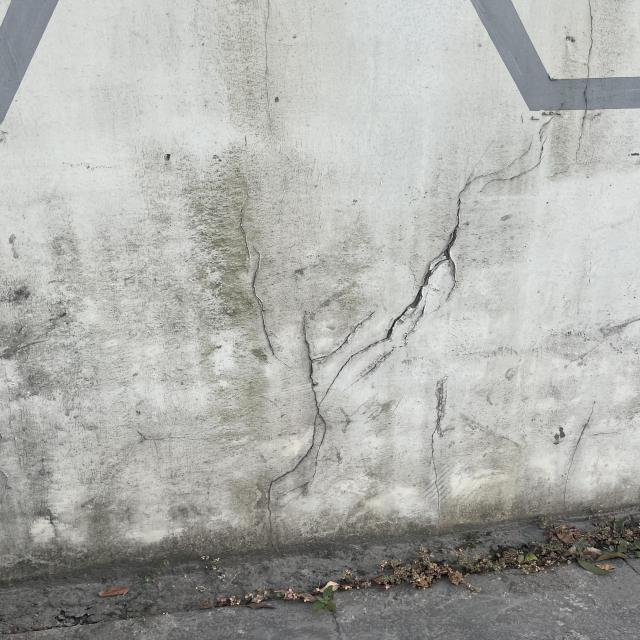crack: (205, 97, 604, 544), (214, 174, 289, 368), (563, 0, 606, 164)
